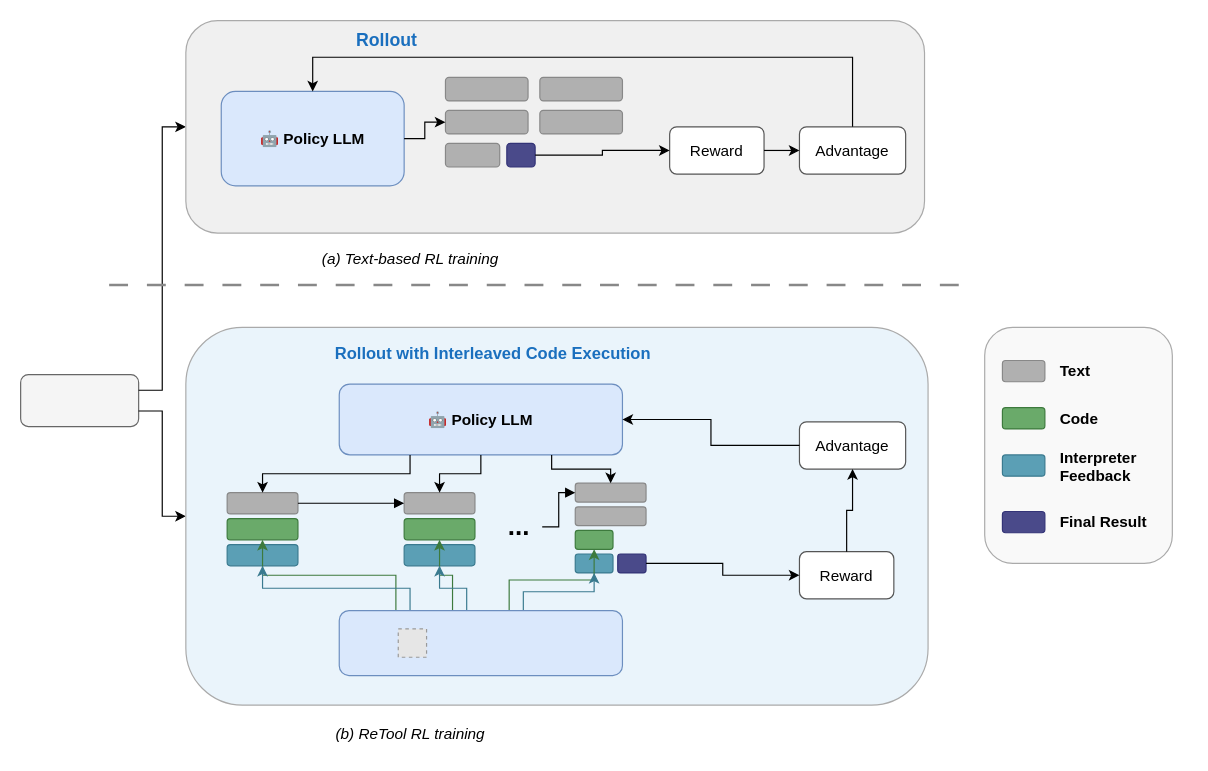
The diagram is 1208 pixels wide and 771 high, and some of its shapes have lost their labels. Grey dashed boxes stand in for pictures. Each missing label, with the box of its shape:
Code Sandbox: (338, 609, 622, 676)
Question: (19, 373, 139, 427)
